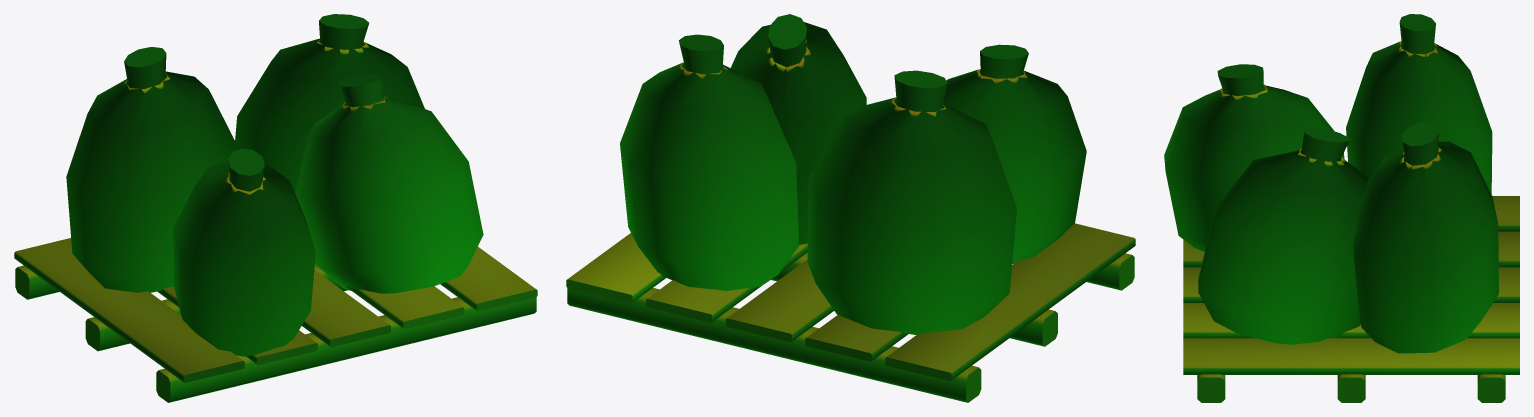
The model's file is cargo_sacks.glb.
The picture shows the model from 3 angles, left to right: view 1: azimuth 30°, elevation 25°; view 2: azimuth 150°, elevation 25°; view 3: azimuth 270°, elevation 25°; orthographic projection. The views are drawn at different scales.
Visible parts, largest first — view 1: cargo_sacks; view 2: cargo_sacks; view 3: cargo_sacks.
Part boxes in pixels (left/top/right/bottom): cargo_sacks: left=14, top=14, right=537, bottom=402; cargo_sacks: left=566, top=14, right=1135, bottom=402; cargo_sacks: left=1164, top=14, right=1519, bottom=402.
Size of what is drawn, in the model's own units: 1.2 by 0.7726 by 1.01.
